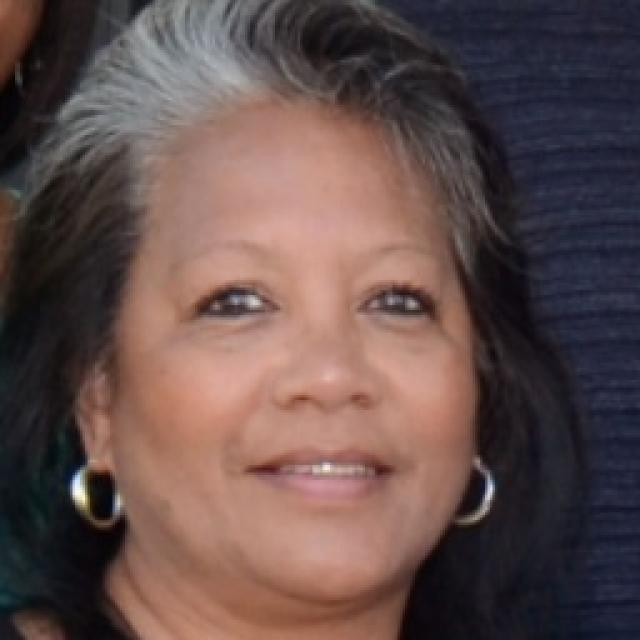no-glasses: (179, 256, 445, 356)
